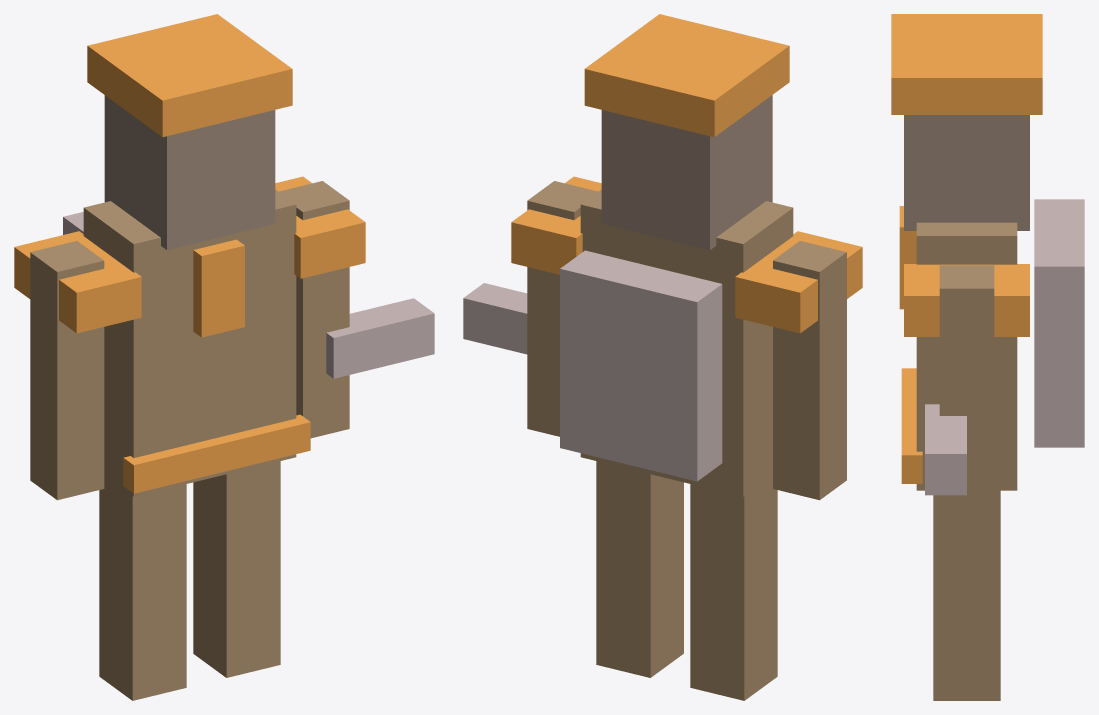
File: 17_tovin_gravesong_keeper_at.glb
The picture shows the model from 3 angles, left to right: view 1: azimuth 30°, elevation 25°; view 2: azimuth 150°, elevation 25°; view 3: azimuth 270°, elevation 25°; orthographic projection.
Visible parts, largest first — view 1: Tovin Gravesong, Keeper at; view 2: Tovin Gravesong, Keeper at; view 3: Tovin Gravesong, Keeper at.
Part boxes in pixels (x1,y1,x2,y2): Tovin Gravesong, Keeper at: (14,14,434,700); Tovin Gravesong, Keeper at: (463,14,862,700); Tovin Gravesong, Keeper at: (891,14,1084,700).
Size of the model in its own units: 0.9804 by 1.55 by 0.44.
